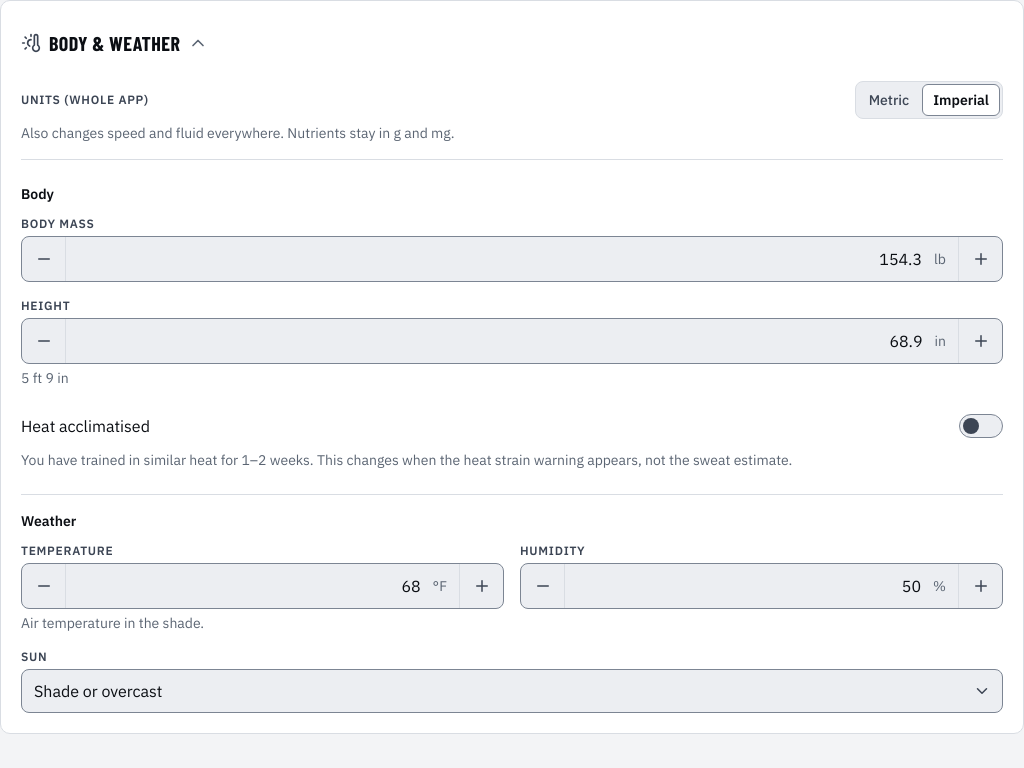
Test case: BodyWeatherSection: body › shows the height in inches (and feet and inches) in imperial, but stores cm
Replace the text in the number field labelled "Height" with "70" at [500, 341], box top-left (66, 319), bottom-right (934, 363)
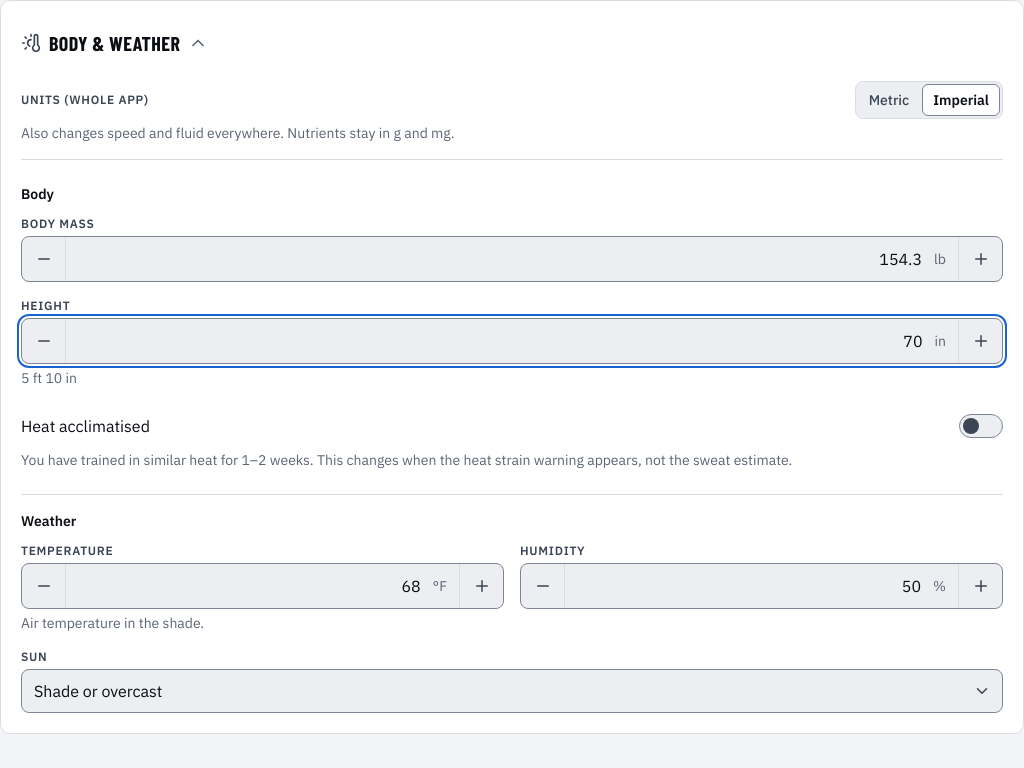
Press Tab
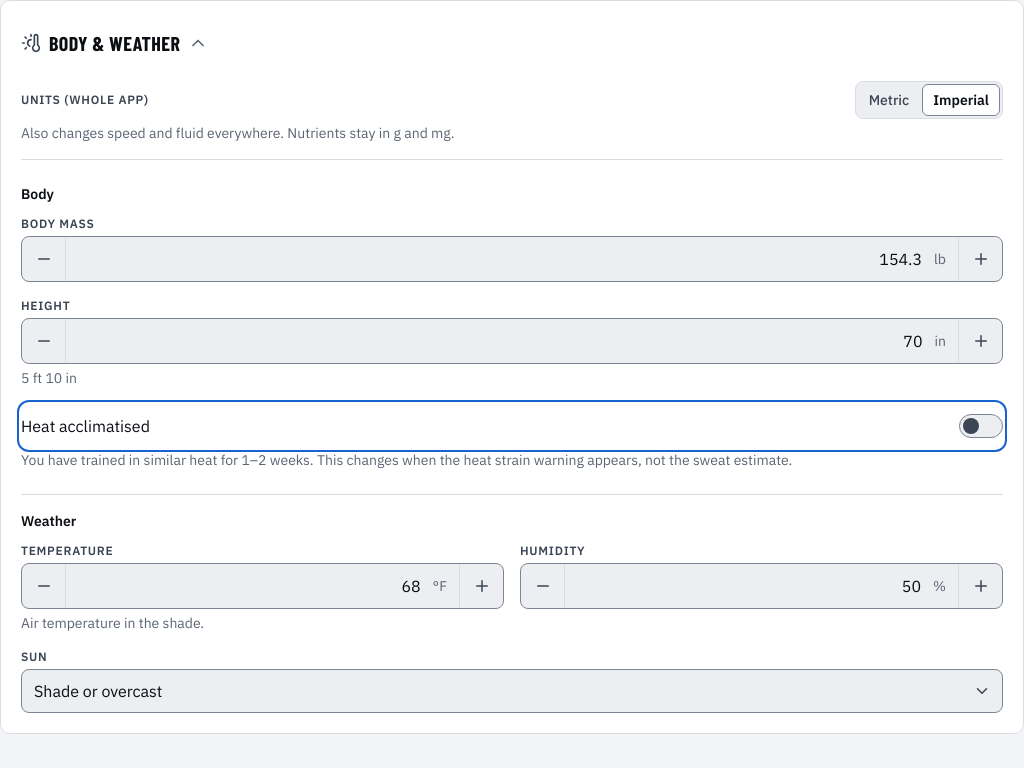
Now the text "5 ft 10 in" is shown, box top-left (21, 369), bottom-right (77, 387)
Click the radio button labelled "Metric" at [889, 100], box top-left (858, 84), bottom-right (920, 116)
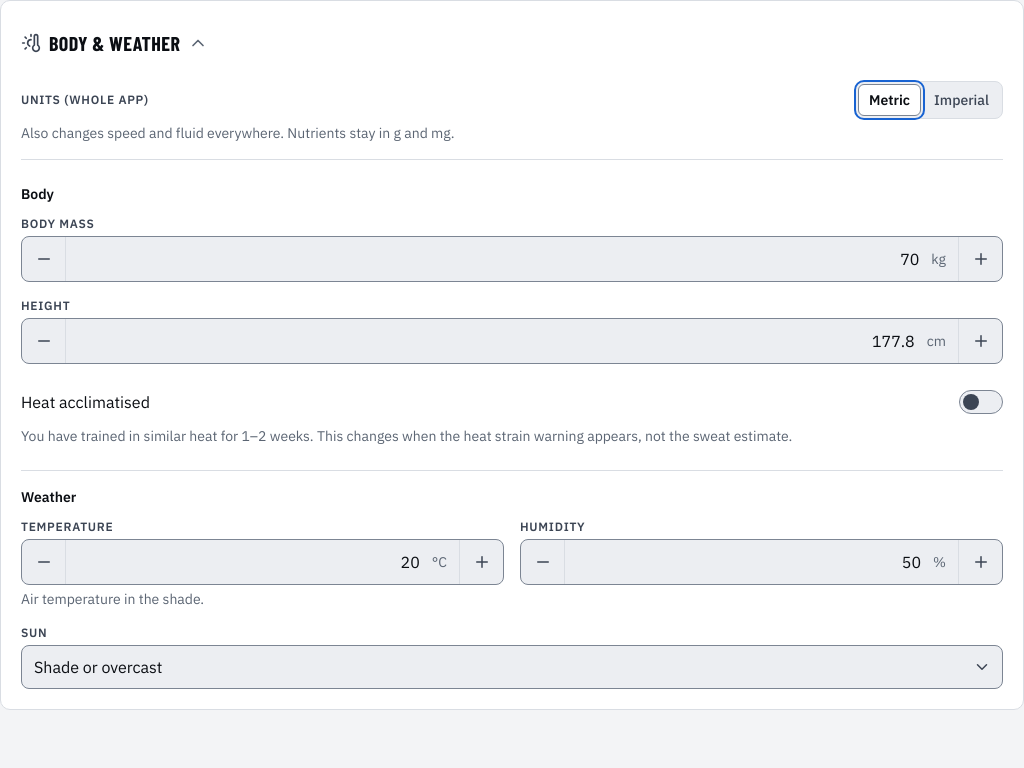
Now the number field labelled "Height" holds "177.8", box top-left (66, 319), bottom-right (927, 363)
